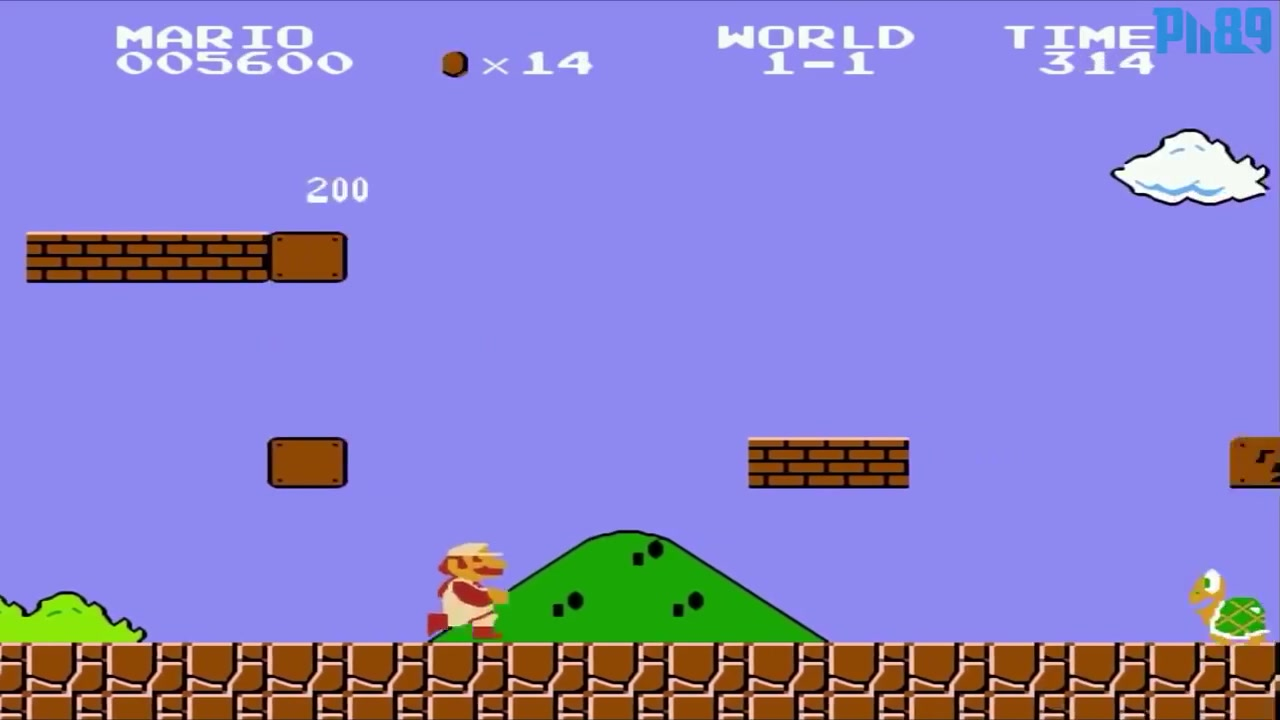mario: (417, 534, 514, 638)
